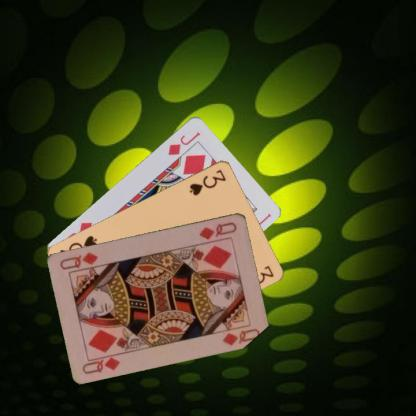3s: (186, 166, 228, 196)
Jd: (165, 129, 202, 156)
Qd: (80, 350, 122, 375), (196, 219, 238, 240)
